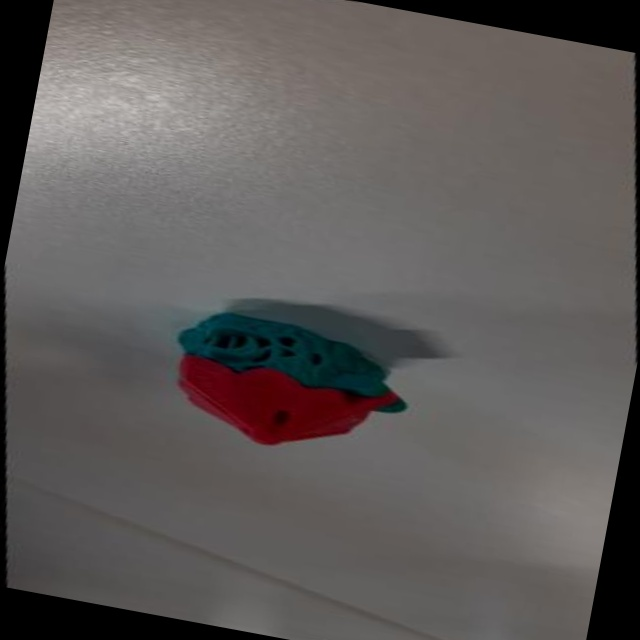House: (146, 290, 433, 477)
